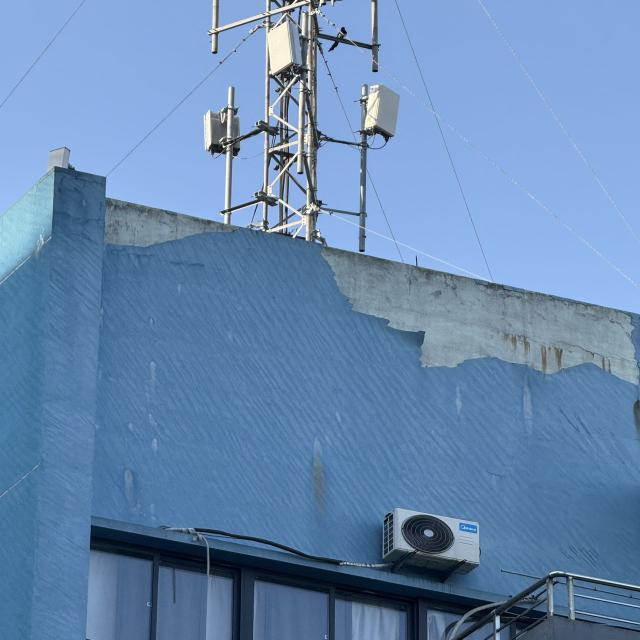spalling: (294, 241, 638, 434), (94, 187, 264, 255)
